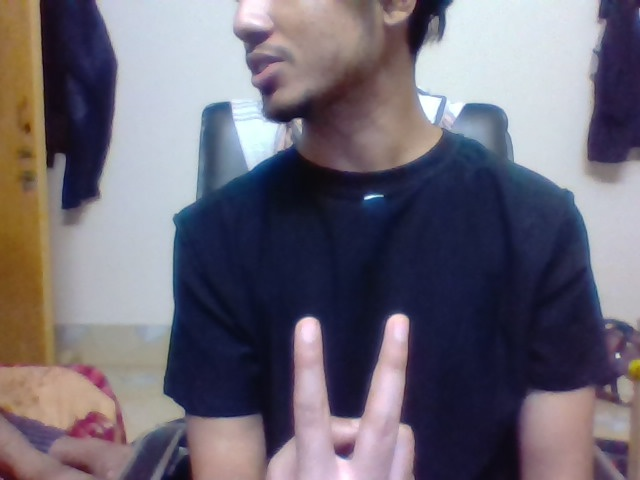V: (290, 305, 411, 436)
